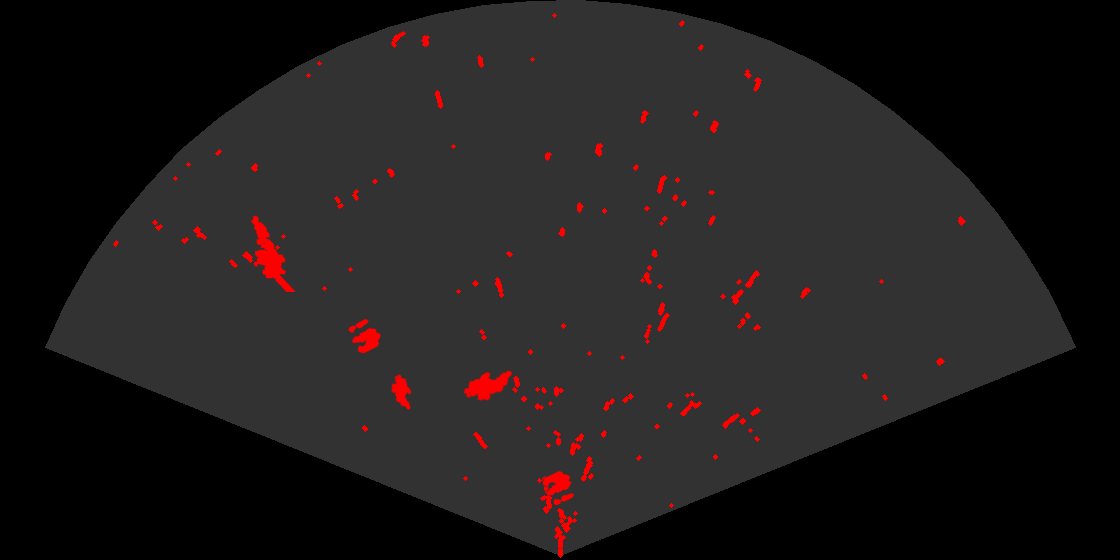AUV: (462, 369, 514, 403), (389, 372, 413, 412)
ball: (347, 317, 382, 355), (541, 469, 576, 507)
frogman: (250, 214, 297, 292)
